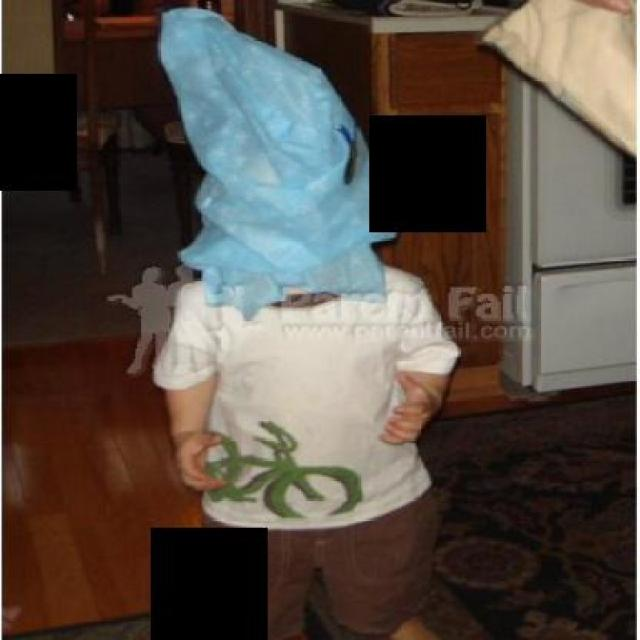plastic bag: (154, 4, 408, 316)
